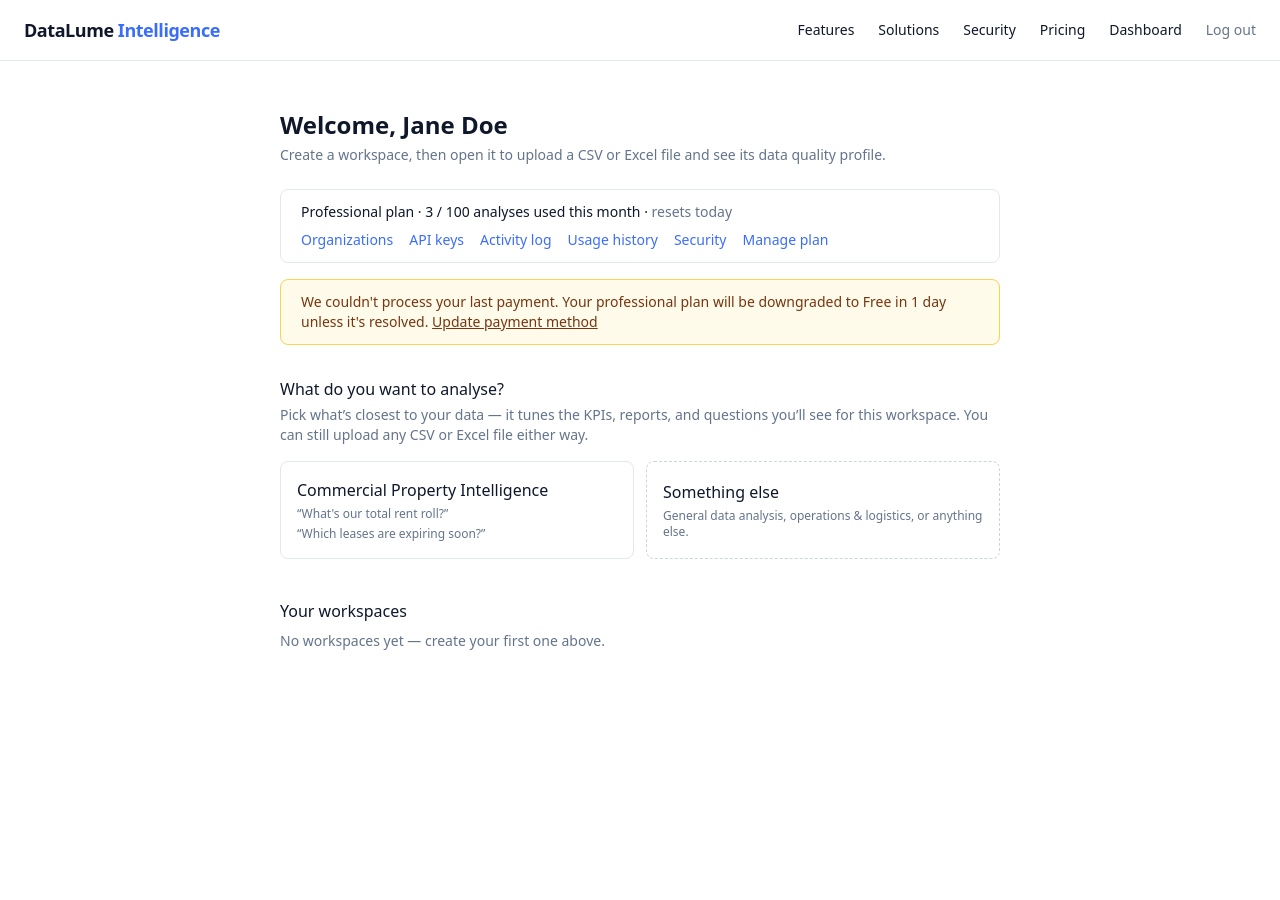
Scenario: DashboardPage past-due billing banner › shows an error if opening the billing portal fails
Expected: the text "downgraded to Free" is shown, [677, 292, 907, 311]
Click the button "Update payment method": (515, 322) [432, 312, 598, 332]
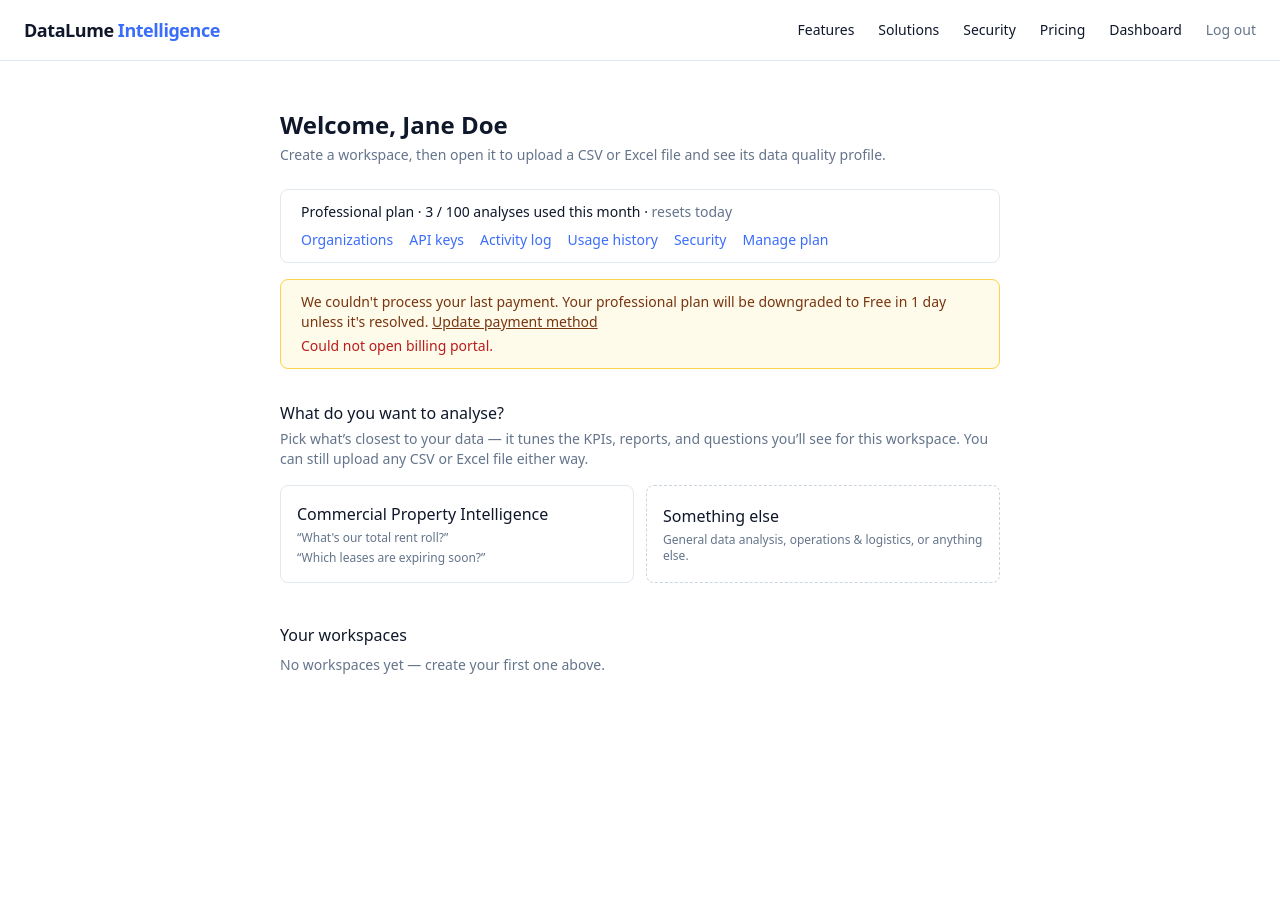
Now the text "Could not open billing portal." is shown, box [301, 336, 493, 355]
